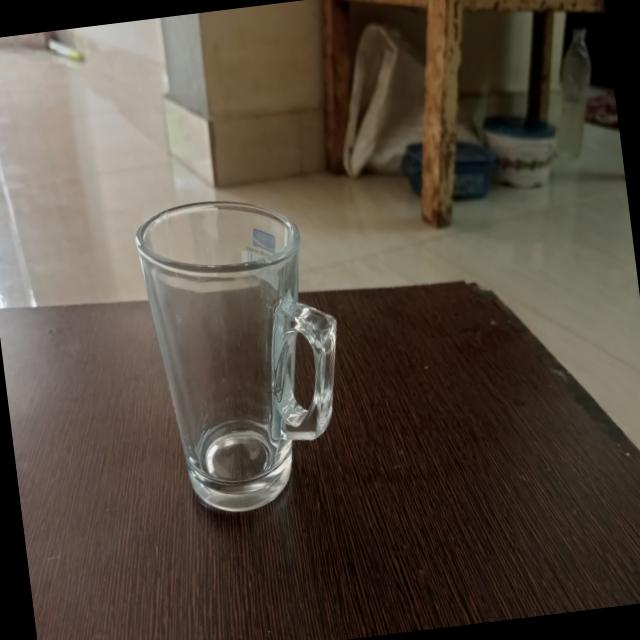glass-VX4N: (122, 180, 358, 526)
